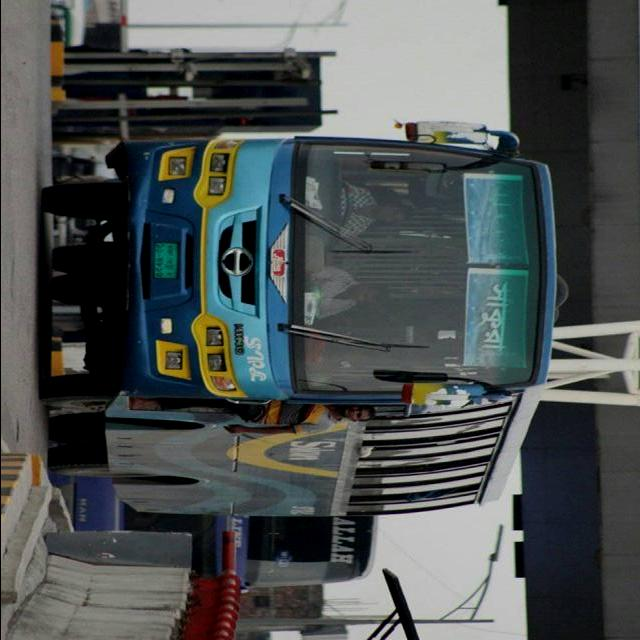bus: (38, 122, 573, 519)
